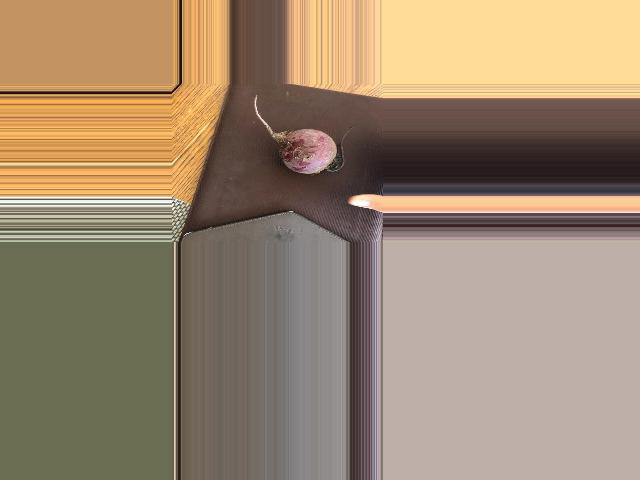beet: (253, 96, 351, 174)
